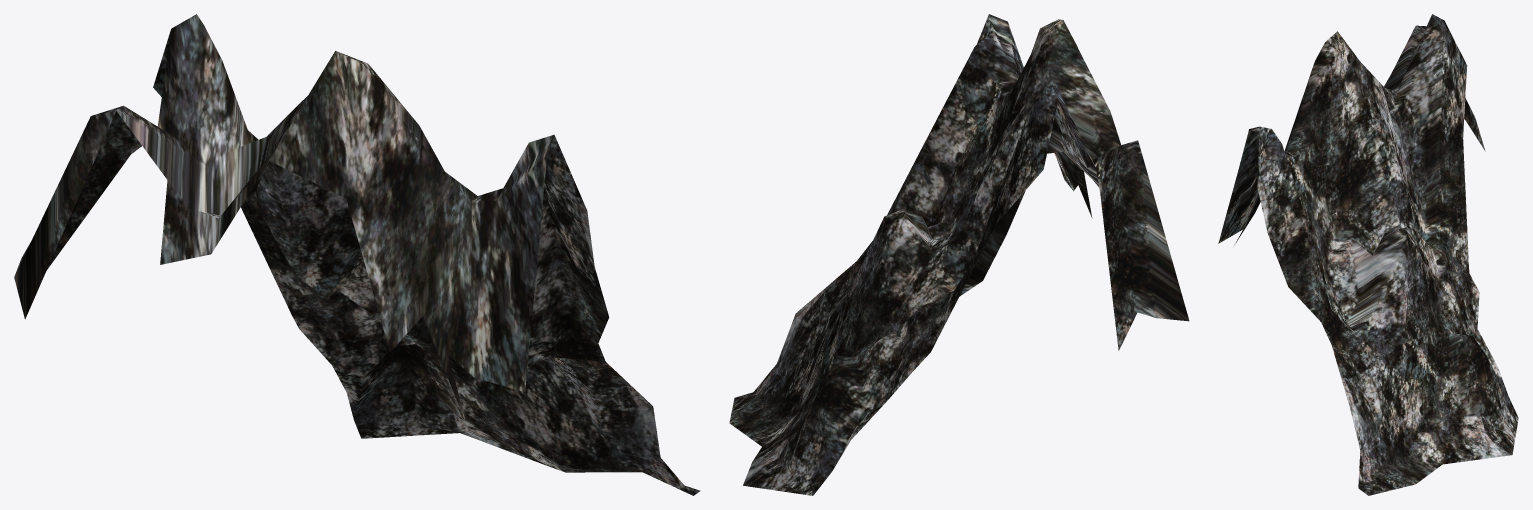
The model's file is OVERHILL_A_01_MOUN1_OBJECT147.fbx.
The picture shows the model from 3 angles, left to right: view 1: azimuth 30°, elevation 25°; view 2: azimuth 150°, elevation 25°; view 3: azimuth 270°, elevation 25°; orthographic projection. The views are drawn at different scales.
Visible parts, largest first — view 1: OVERHILL_A_01_MOUN1_OBJECT147; view 2: OVERHILL_A_01_MOUN1_OBJECT147; view 3: OVERHILL_A_01_MOUN1_OBJECT147.
Part boxes in pixels (bbox=[...]): OVERHILL_A_01_MOUN1_OBJECT147: bbox=[14, 14, 700, 495]; OVERHILL_A_01_MOUN1_OBJECT147: bbox=[729, 14, 1189, 495]; OVERHILL_A_01_MOUN1_OBJECT147: bbox=[1218, 14, 1518, 495].
Size of the model in its own units: 368975 by 312306 by 245845.
Materials: 1 (1 with a texture image).
